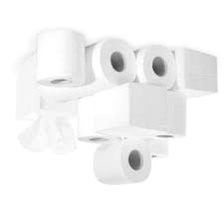tissue: (10, 47, 83, 162), (39, 31, 141, 110), (30, 23, 89, 91), (88, 136, 155, 189), (164, 43, 223, 102), (139, 86, 191, 143), (72, 95, 118, 150), (133, 41, 180, 92), (143, 136, 172, 164)
